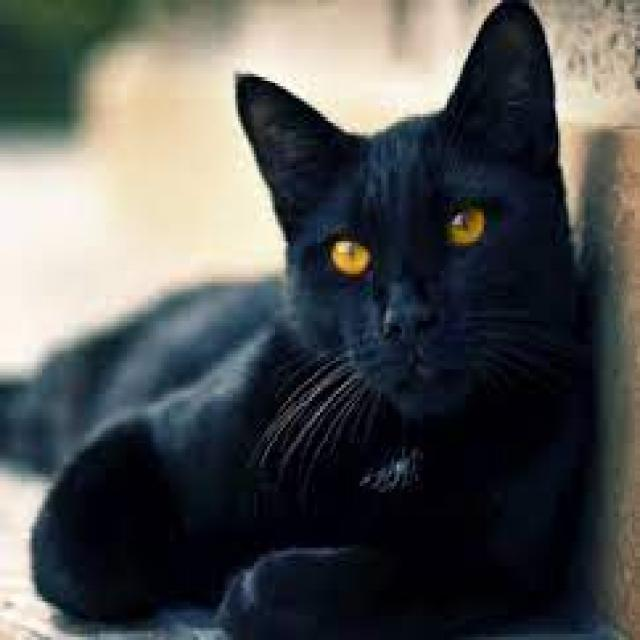Cat: (0, 0, 590, 637)
